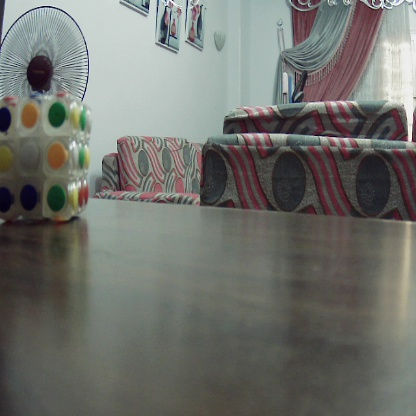Rubix Cube: (1, 94, 90, 222)
